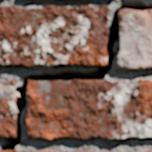brick: (26, 78, 151, 139), (0, 6, 108, 66), (118, 10, 151, 68), (0, 80, 16, 135), (36, 150, 57, 151), (72, 150, 91, 151)
crack: (0, 0, 151, 151)
